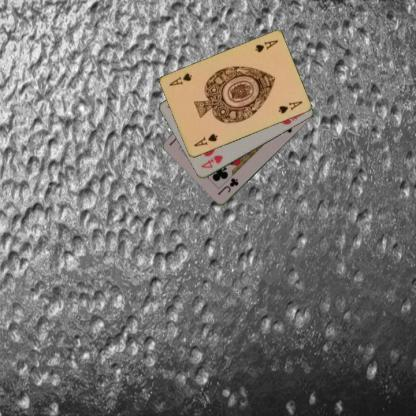4h: (198, 152, 224, 170)
As: (191, 131, 219, 148), (252, 38, 279, 53)
Jc: (215, 176, 240, 197)
